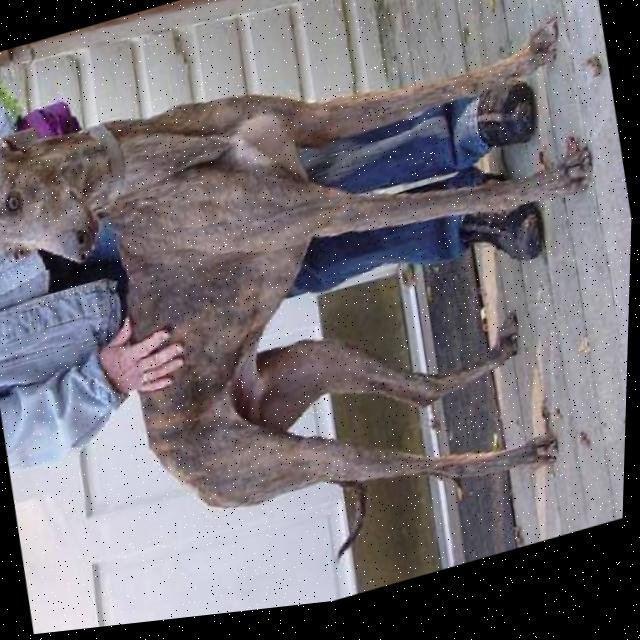dogs: (0, 0, 636, 621)
